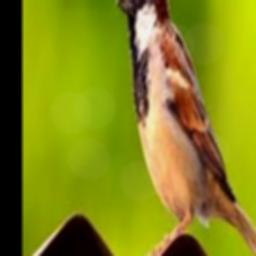Sparrow: (114, 0, 256, 256)
